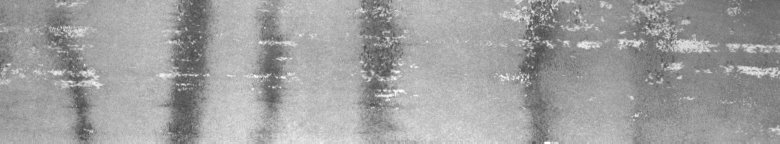hc: (360, 4, 404, 108)
